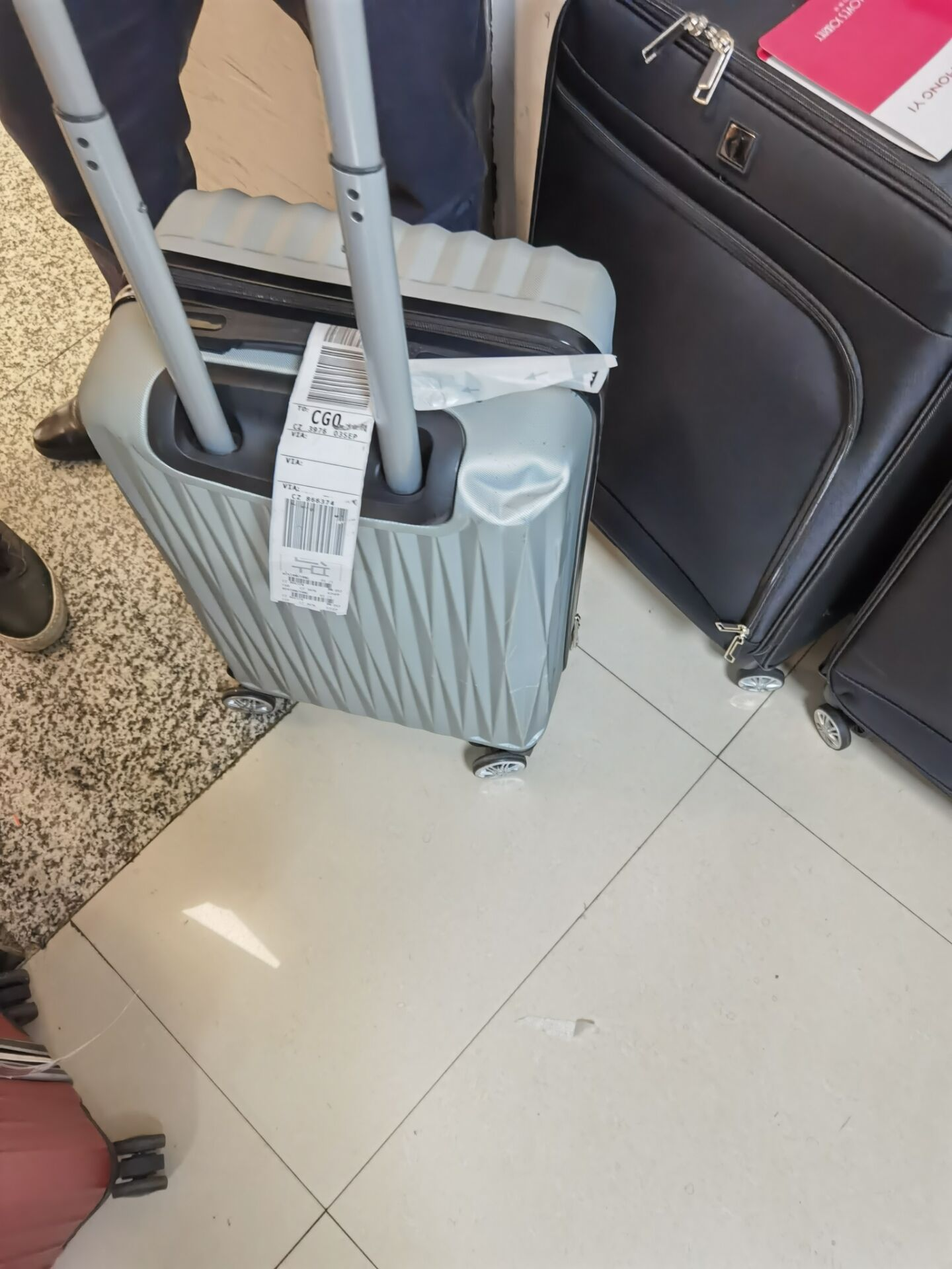rupture: (457, 456, 571, 527)
